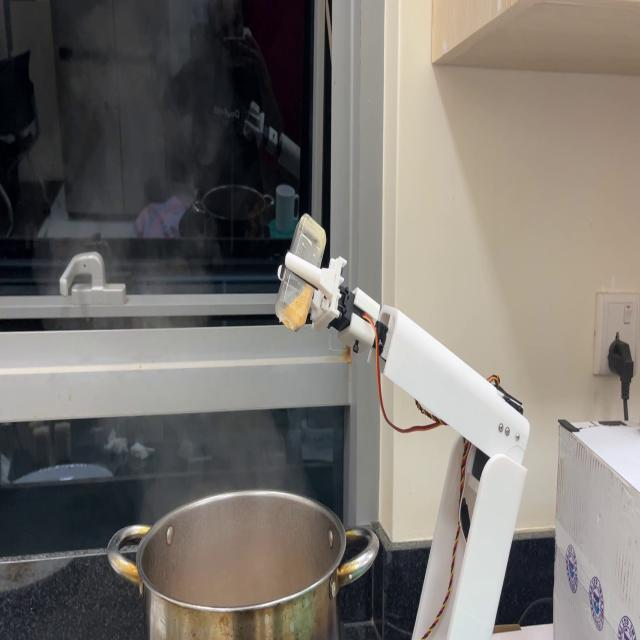cooking_pot: (112, 498, 385, 639)
garlic_powder: (285, 296, 310, 333)
